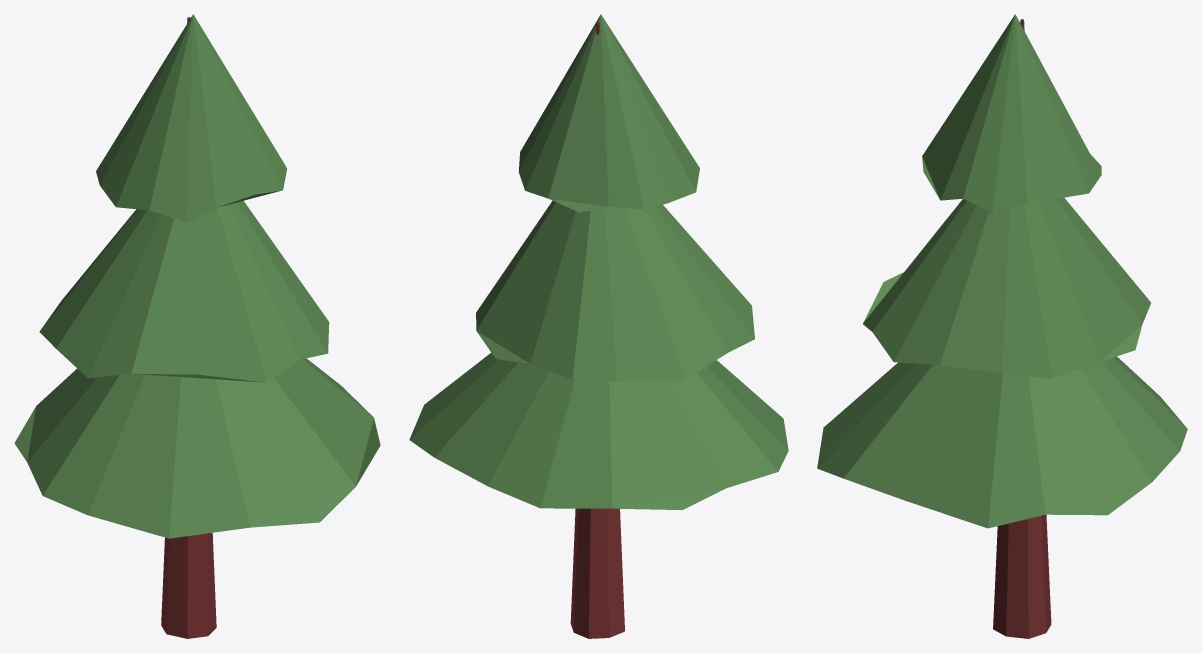
File: pine tree colored.fbx
The picture shows the model from 3 angles, left to right: view 1: azimuth 30°, elevation 25°; view 2: azimuth 150°, elevation 25°; view 3: azimuth 270°, elevation 25°; orthographic projection.
Visible parts, largest first — view 1: default; view 2: default; view 3: default.
Part boxes in pixels (<box>): default: <box>14,14,380,638</box>; default: <box>409,14,788,638</box>; default: <box>817,14,1187,638</box>.
Size of the model in its own units: 76.18 by 135 by 73.9.
1 material, 1 textured.
